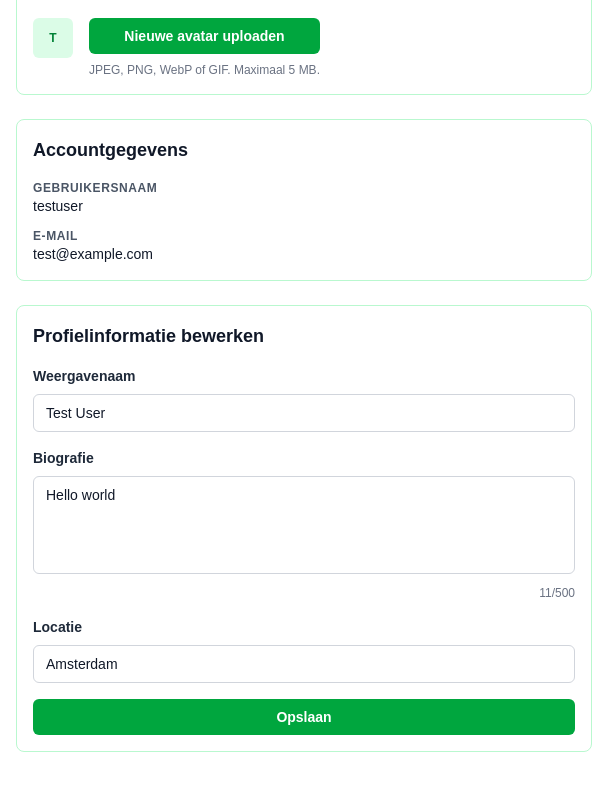
Test case: ProfileForm › shows error alert when saving fails with Error instance
The width and height of the screenshot is (609, 800).
(page scrolled)
Click the button with test id "save-button". click: point(304, 717)
box: [33, 699, 575, 735]
(page scrolled)
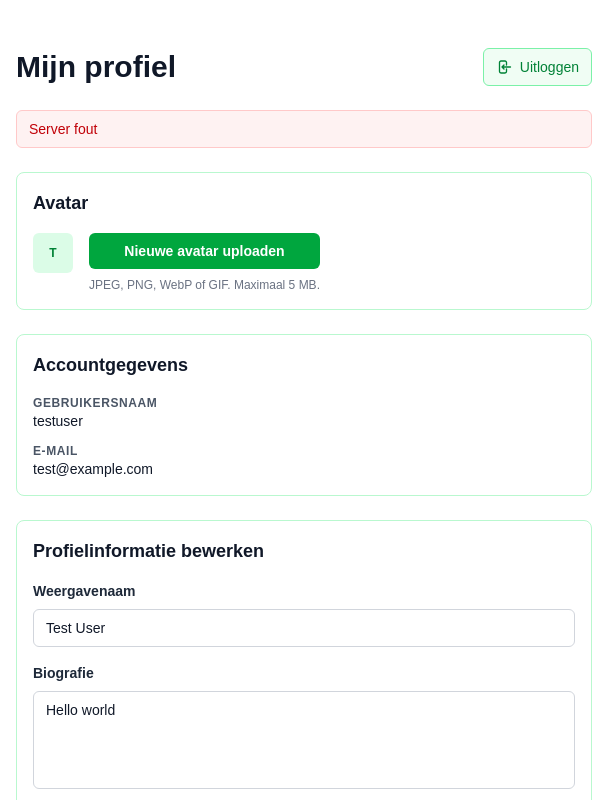
expect the text "Server fout" is shown: met, box [16, 110, 592, 148]
